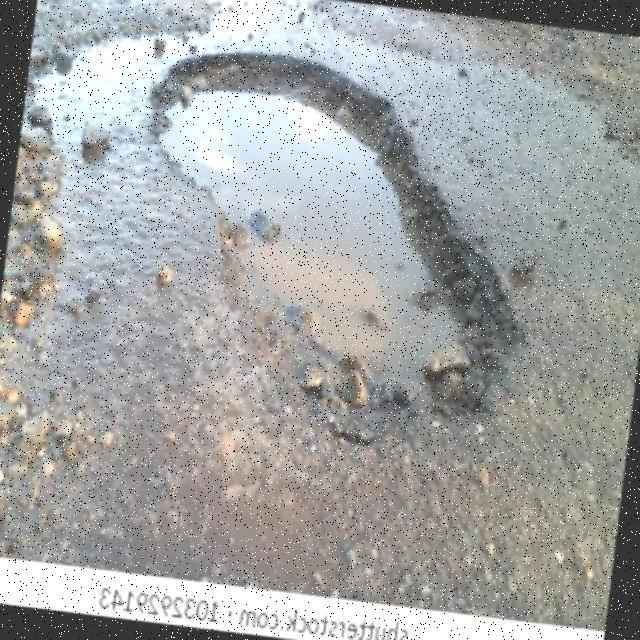Pothole: (153, 54, 522, 442)
